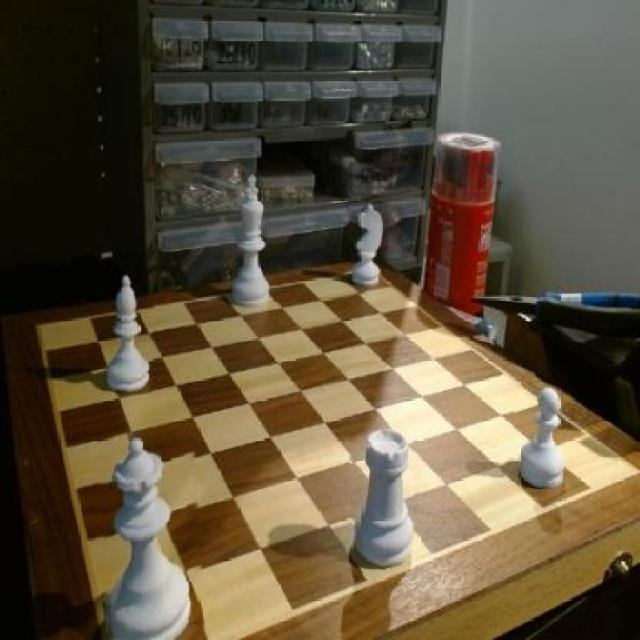black-rook: (102, 268, 153, 394)
white-bishop: (229, 172, 278, 312)
white-king: (346, 205, 392, 293)
white-knight: (514, 383, 569, 496)
white-pawn: (100, 429, 201, 640)
white-queen: (351, 423, 422, 573)
